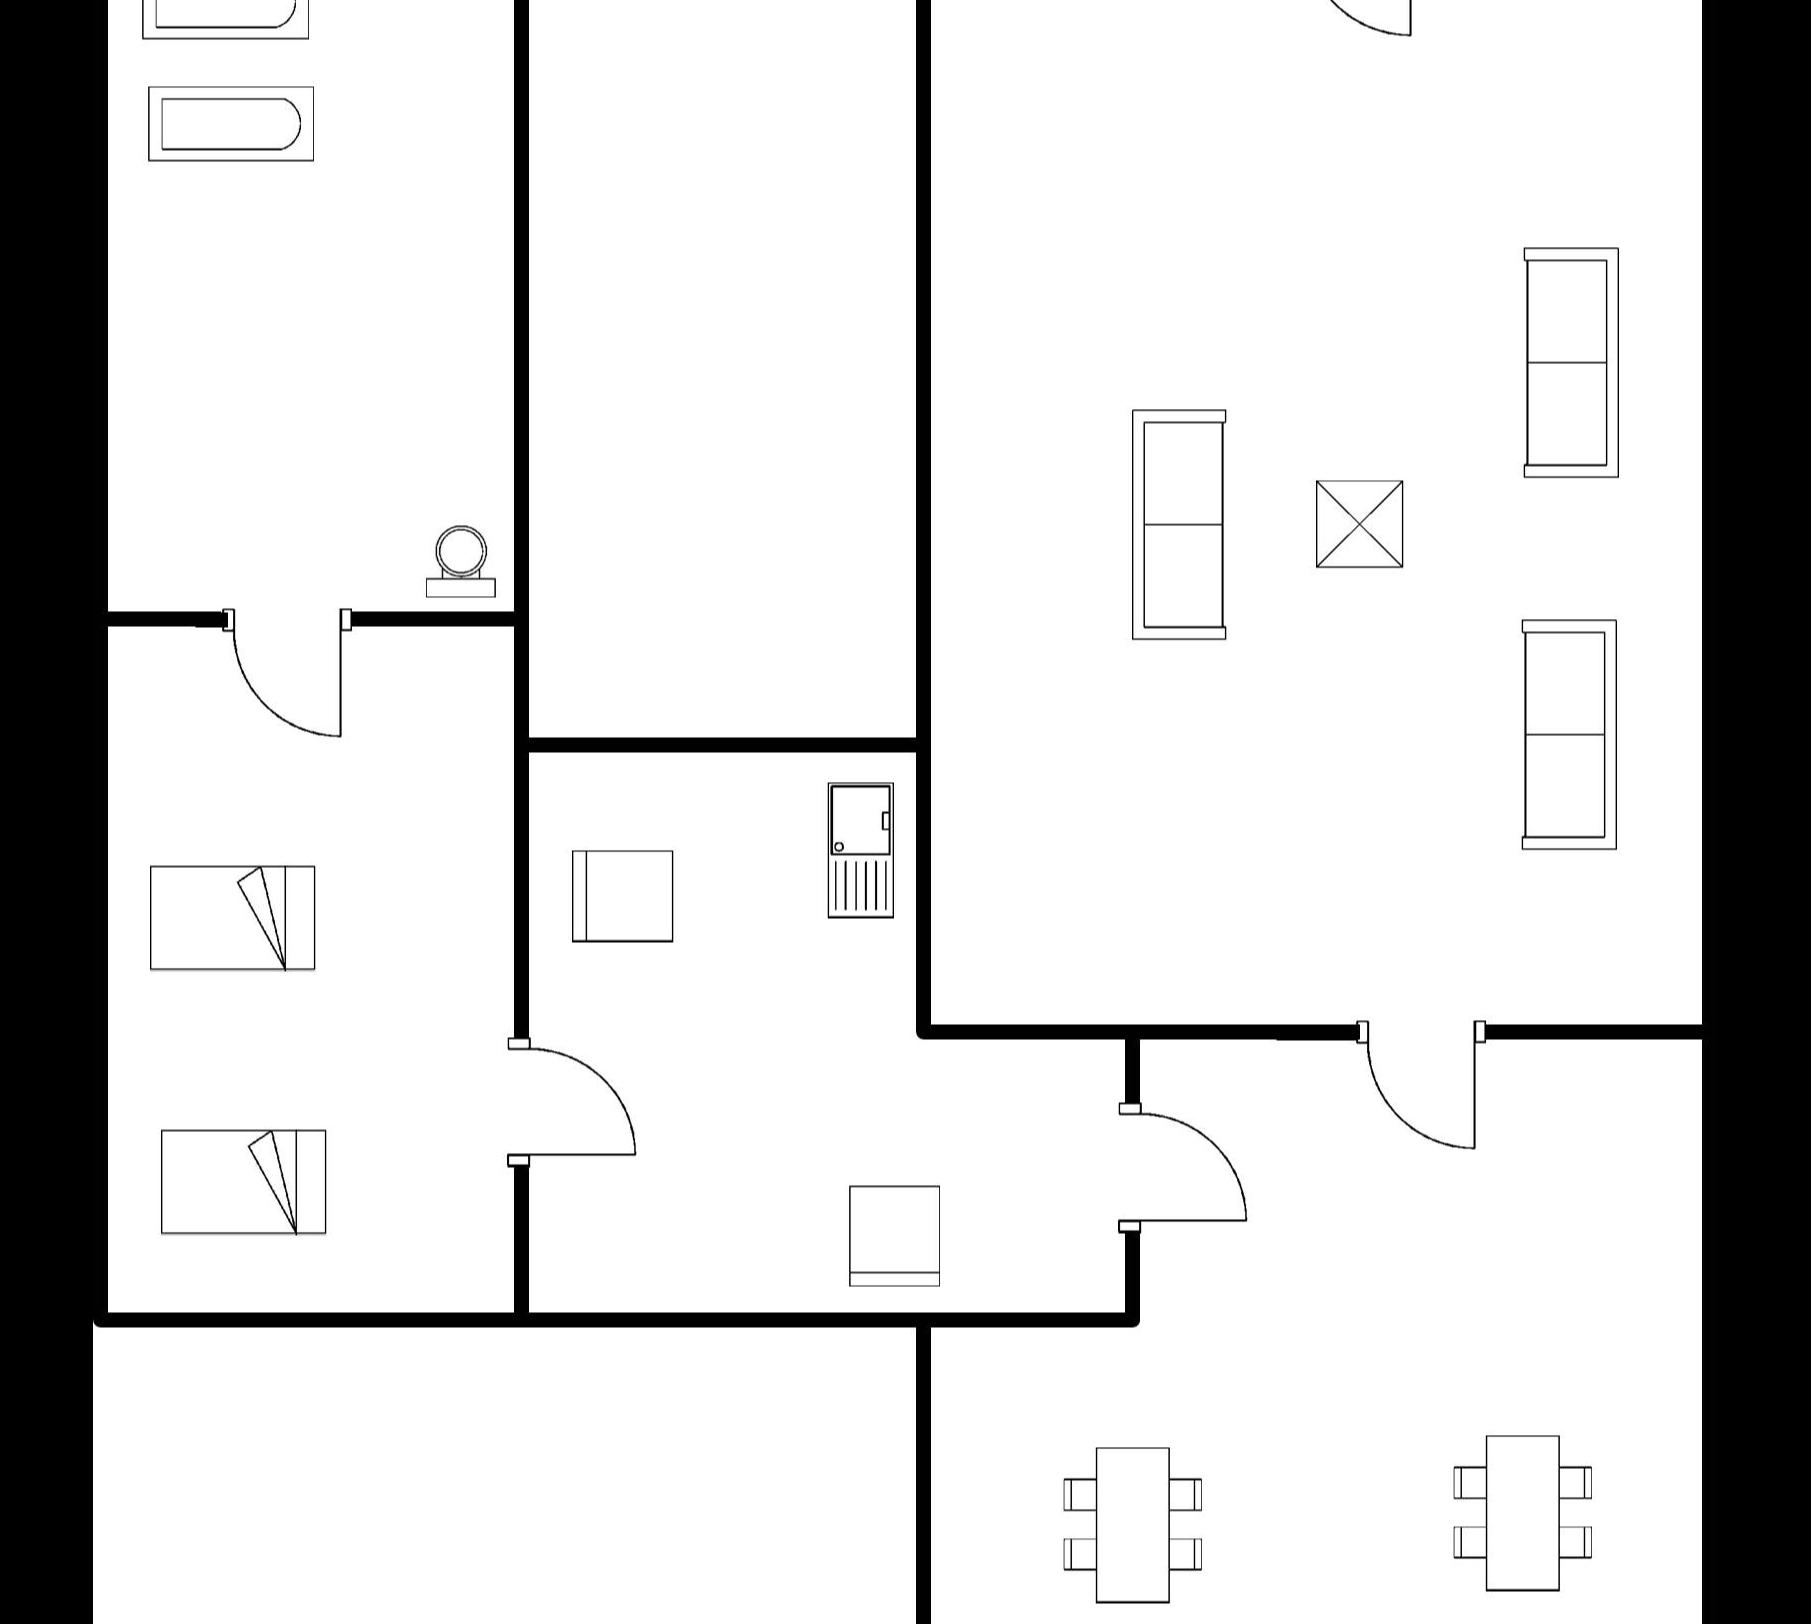bed: (147, 1116, 340, 1245), (141, 856, 326, 980)
dining_table: (1055, 1430, 1217, 1621), (1444, 1423, 1606, 1605)
sink: (814, 773, 903, 930)
sofa: (1508, 608, 1634, 864), (1115, 398, 1240, 652), (1515, 232, 1631, 492)
toilet: (411, 520, 516, 605)
tub: (133, 77, 325, 169), (132, 0, 325, 53)
